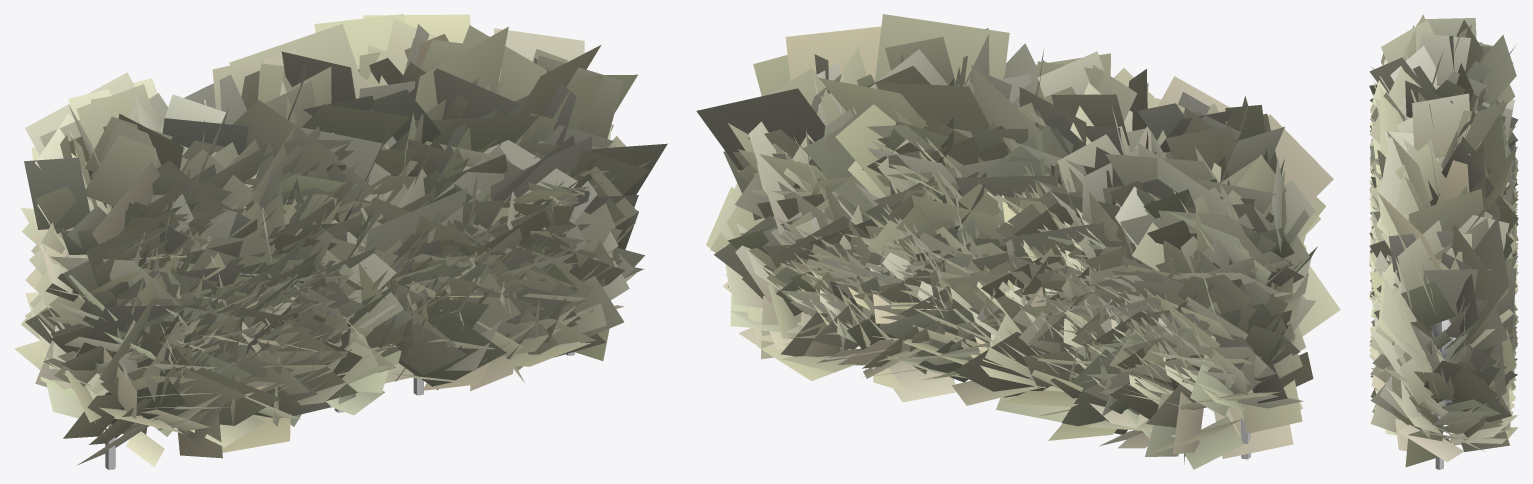
The model's file is hedge_low.glb.
The picture shows the model from 3 angles, left to right: view 1: azimuth 30°, elevation 25°; view 2: azimuth 150°, elevation 25°; view 3: azimuth 270°, elevation 25°; orthographic projection. The views are drawn at different scales.
Visible parts, largest first — view 1: hedge_low; view 2: hedge_low; view 3: hedge_low.
Part boxes in pixels (x1,y1,x2,y2): hedge_low: (14, 14, 667, 469); hedge_low: (696, 14, 1340, 469); hedge_low: (1369, 14, 1518, 469).
Bounding box in the file's own units: 4.22 × 2.51 × 1.22.
